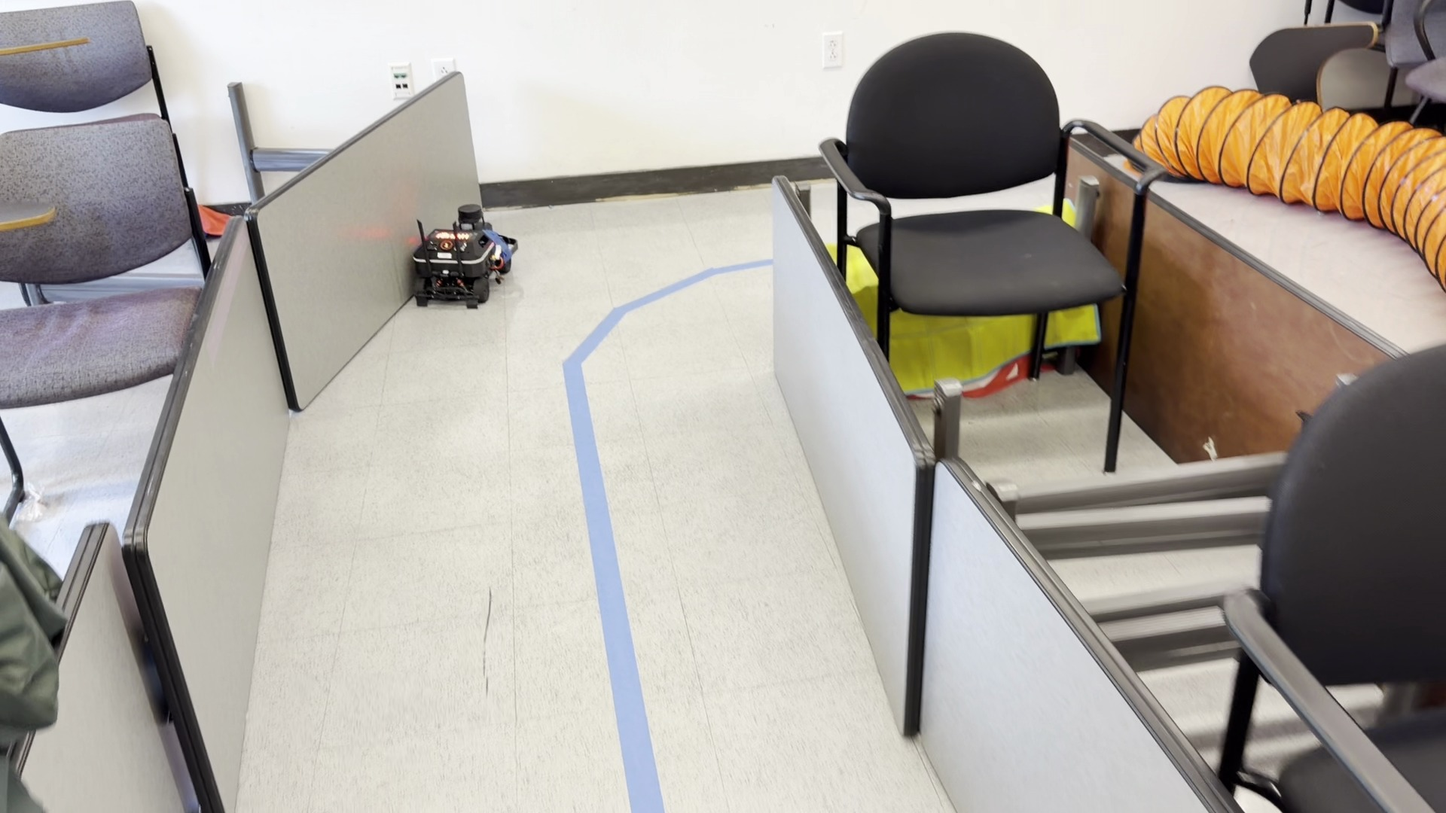racecar: (413, 201, 517, 308)
